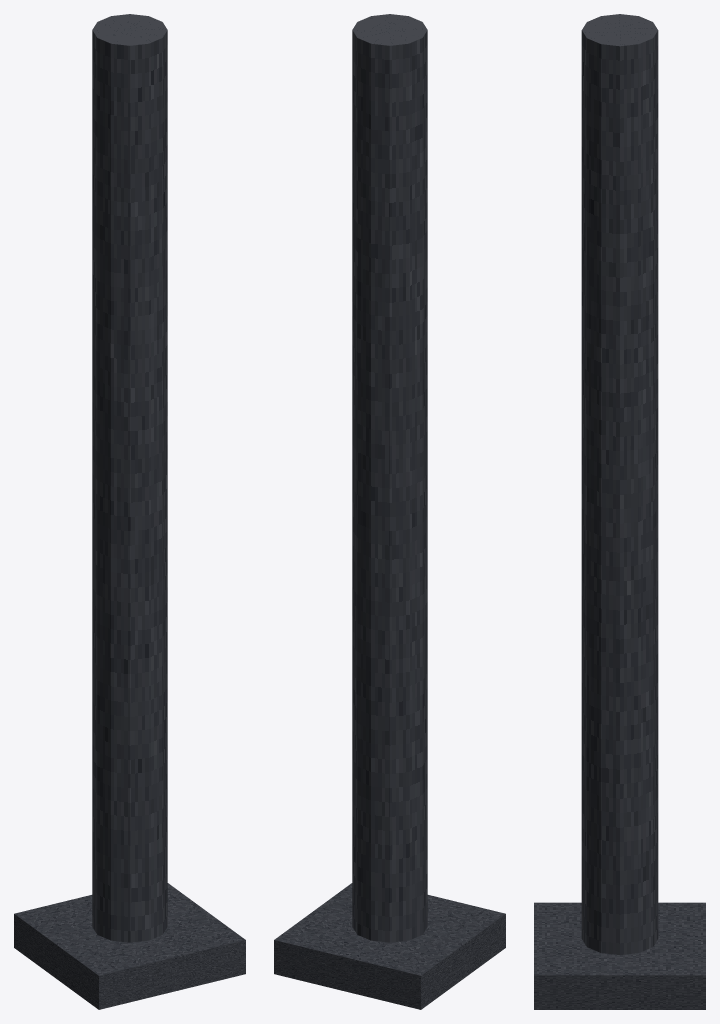
Rendered from PosteRed.obj.
3 views of the same model, side by side, from view 1: azimuth 30°, elevation 25°; view 2: azimuth 150°, elevation 25°; view 3: azimuth 270°, elevation 25° (orthographic).
Bounding box in the file's own units: 0.18 × 1.09 × 0.18.
Materials: 1 (1 with a texture image).
